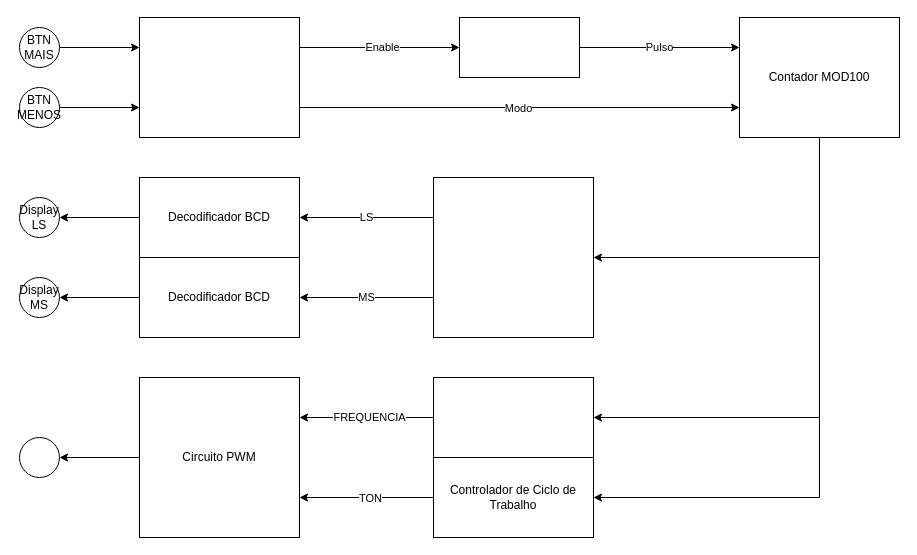
The diagram is 917 pixels wide and 555 high, and some of its shapes have lost their labels. The shapes that lost their labels are listed below. From the top down, each one's centre as x and y in pixels, then its label:
(x=519, y=47): Oscilador Customizado
(x=219, y=77): Interface de Entrada
(x=513, y=257): Split LS MS
(x=513, y=417): Divisor de Frequência
(x=39, y=457): LED
